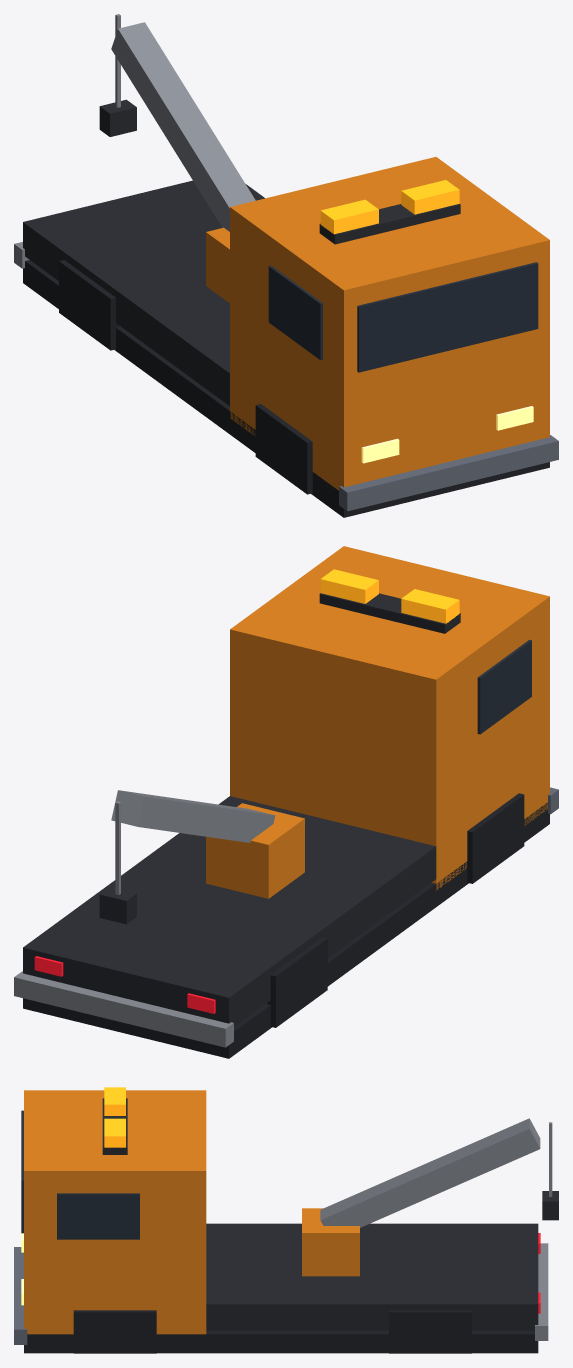
The model's file is tow_truck.glb.
3 views of the same model, one above another, from view 1: azimuth 30°, elevation 25°; view 2: azimuth 150°, elevation 25°; view 3: azimuth 270°, elevation 25° (orthographic). The views are drawn at different scales.
Visible parts, largest first — view 1: body_tow_orange, body_tow_dark, body_truck_glass, body_car_black, body_steel, body_car_grey, lights_amber, lights_lamp; view 2: body_tow_orange, body_tow_dark, body_car_black, body_steel, body_truck_glass, lights_amber, lights_tail; view 3: body_tow_orange, body_tow_dark, body_car_black, body_steel, body_truck_glass, lights_amber, body_car_grey.
Boxes of the visible parts, x1,y1,x2,y2 form: body_tow_orange: (206,157,549,490); body_tow_dark: (23,99,460,405); body_truck_glass: (268,262,538,372); body_car_black: (23,260,549,517); body_steel: (14,14,255,268); body_car_grey: (339,435,558,511); lights_amber: (320,180,459,234); lights_lamp: (361,406,533,463); body_tow_orange: (206,546,549,898); body_tow_dark: (23,593,460,1026); body_car_black: (23,793,549,1058); body_steel: (14,790,275,1047); body_truck_glass: (477,639,531,734); lights_amber: (320,569,459,623); lights_tail: (34,956,215,1013); body_tow_orange: (24,1090,359,1334); body_tow_dark: (102,1098,558,1330); body_car_black: (24,1310,538,1353); body_steel: (320,1118,552,1340); body_truck_glass: (21,1110,139,1239); lights_amber: (104,1087,125,1147); body_car_grey: (14,1247,27,1344).
Bounding box in the file's own units: 2.42 × 2.67 × 6.57.
